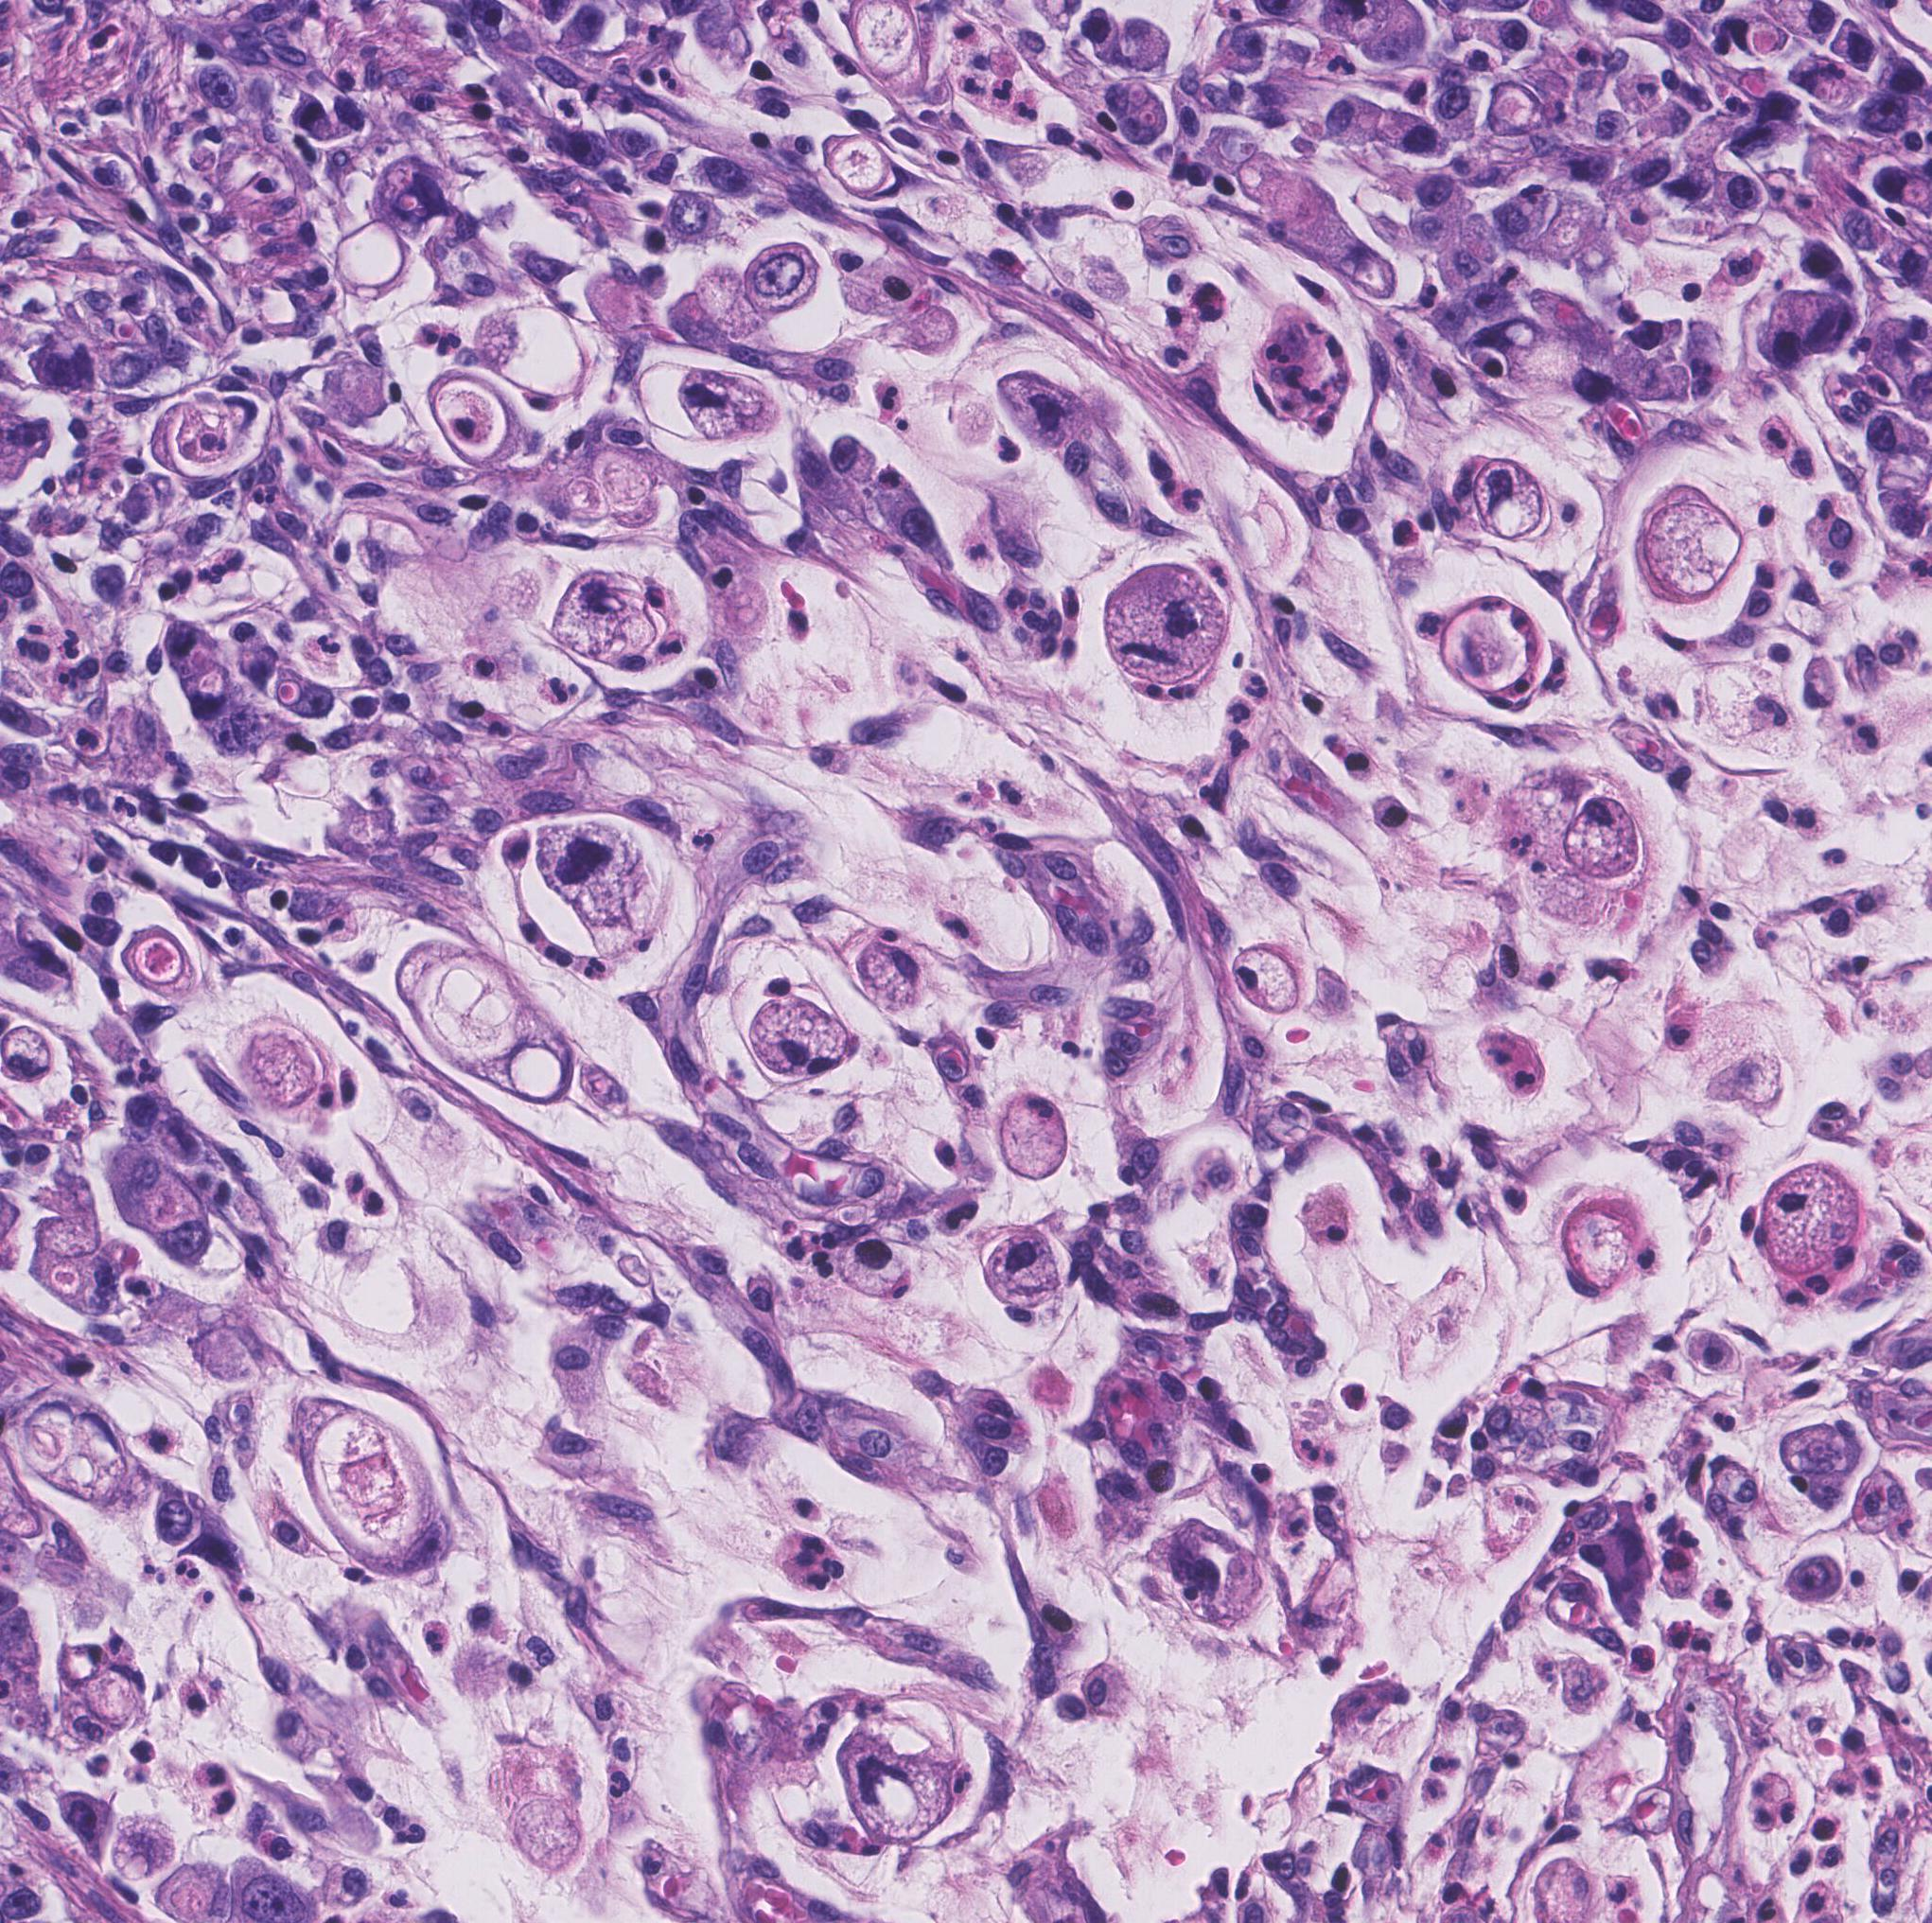ring_cell_cancer: (310, 1409, 456, 1573), (1101, 569, 1226, 689), (837, 1731, 948, 1853), (1756, 1159, 1863, 1277), (555, 569, 662, 673), (1559, 1197, 1641, 1298), (990, 1095, 1076, 1185), (1471, 463, 1552, 555), (241, 1037, 333, 1116), (983, 1234, 1062, 1319), (1566, 794, 1645, 873), (62, 1414, 129, 1504), (748, 997, 821, 1079), (1229, 946, 1312, 1016), (1779, 298, 1855, 368), (164, 398, 254, 456), (847, 939, 919, 1011), (1286, 1192, 1365, 1257), (1330, 239, 1405, 306), (1375, 106, 1453, 158), (21, 1402, 74, 1477), (1483, 76, 1543, 139), (90, 1666, 148, 1731), (1324, 92, 1390, 150), (1342, 1766, 1404, 1824), (178, 664, 236, 722), (1724, 1055, 1782, 1109), (1349, 1826, 1409, 1879), (807, 1014, 856, 1072), (1117, 19, 1171, 70), (51, 1647, 106, 1687), (1802, 657, 1835, 715), (1370, 794, 1411, 831), (1670, 880, 1705, 917)
